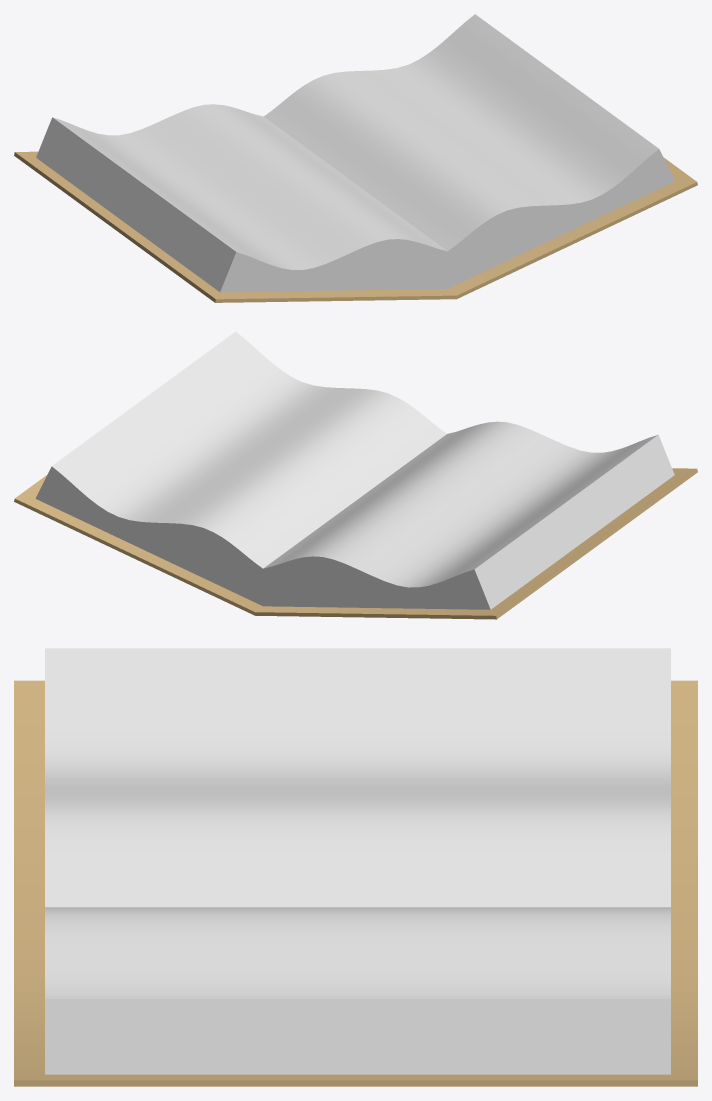
File: livre.fbx
The picture shows the model from 3 angles, top to bottom: view 1: azimuth 30°, elevation 25°; view 2: azimuth 150°, elevation 25°; view 3: azimuth 270°, elevation 25°; orthographic projection. The views are drawn at different scales.
Parts seen in each view (by area): view 1: Line004, Line005; view 2: Line004, Line005; view 3: Line004, Line005.
Boxes of the visible parts, box(x1,y1,x2,y2) form: Line004: box(36, 14, 674, 292); Line005: box(14, 151, 697, 302); Line004: box(35, 331, 674, 609); Line005: box(14, 468, 697, 619); Line004: box(45, 648, 670, 1074); Line005: box(14, 680, 697, 1086).
Bounding box in the file's own units: 290 × 52.93 × 209.
